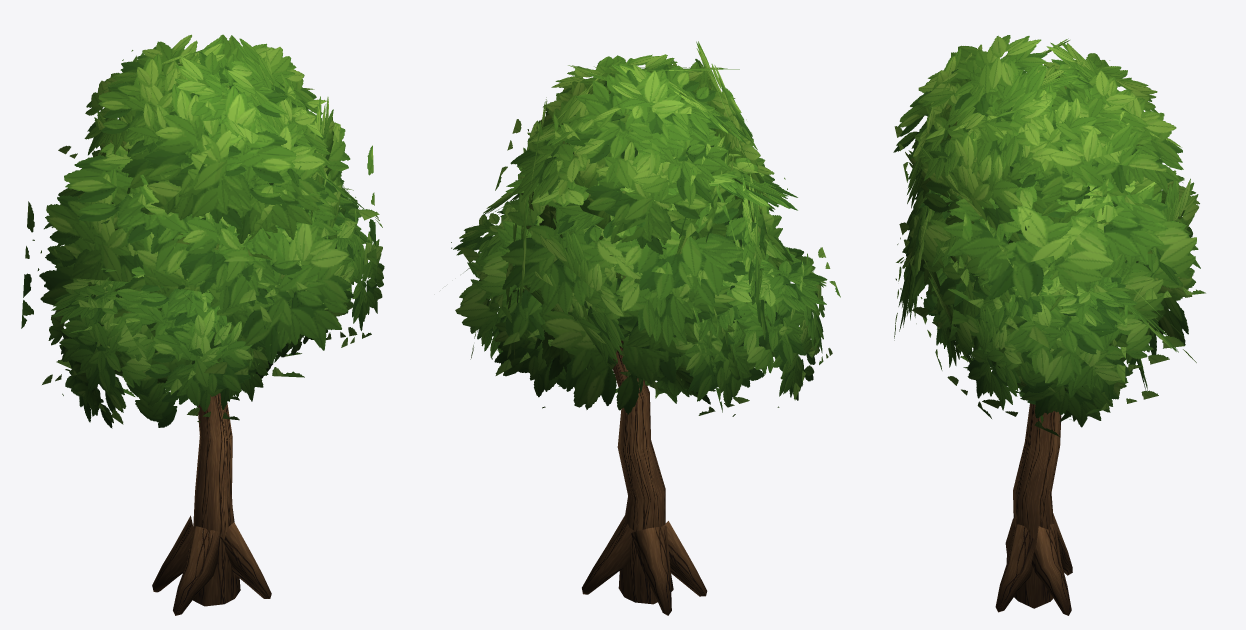
File: tree_green_b.glb
3 views of the same model, side by side, from view 1: azimuth 30°, elevation 25°; view 2: azimuth 150°, elevation 25°; view 3: azimuth 270°, elevation 25° (orthographic). The views are drawn at different scales.
Parts seen in each view (by area): view 1: tree_green_b; view 2: tree_green_b; view 3: tree_green_b.
Boxes of the visible parts, x1=… form: tree_green_b: x1=21, y1=34, x2=384, y2=615; tree_green_b: x1=451, y1=41, x2=840, y2=615; tree_green_b: x1=893, y1=35, x2=1205, y2=615.
Size of the model in its own units: 3.27 by 4.74 by 2.7.
2 materials, 2 textured.
